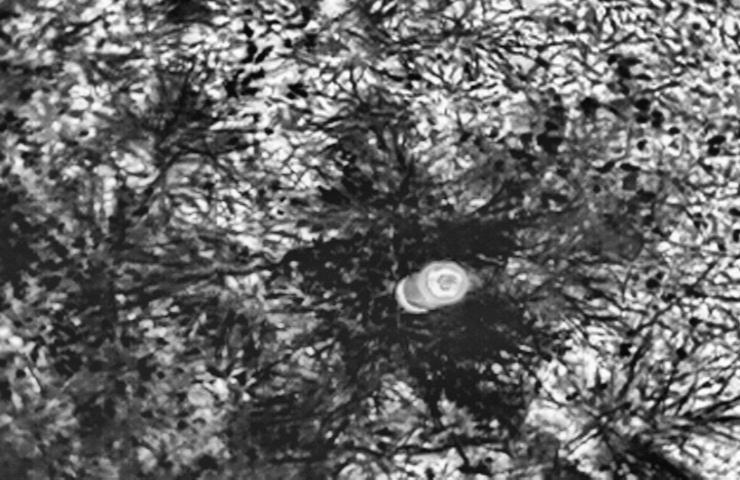landmines: (395, 257, 474, 316)
